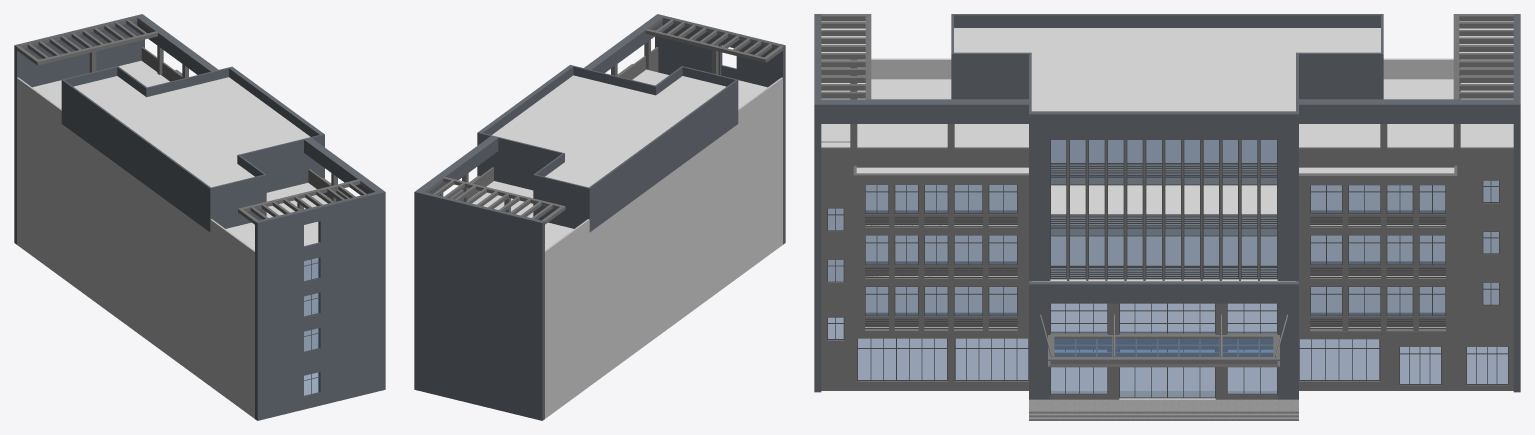
File: 文博的房子.fbx
The picture shows the model from 3 angles, left to right: view 1: azimuth 30°, elevation 25°; view 2: azimuth 150°, elevation 25°; view 3: azimuth 270°, elevation 25°; orthographic projection. The views are drawn at different scales.
Parts seen in each view (by area): view 1: qingmo_c9b3fc26-5e68-48c2-ac20-e401704c7c1e, qingmo_1f484670-5d4b-4316-b420-3c499457a332, qingmo_e1d23210-2f6b-4bca-b11b-85ee1d625181, qingmo_2dcc3714-dce4-49e8-9ec8-e3cf7dcd116f, qingmo_7e99aeb9-248d-4c8e-917b-07705b71b778, qingmo_bace78cb-dbb5-4347-8816-d381edb11381; view 2: qingmo_c9b3fc26-5e68-48c2-ac20-e401704c7c1e, qingmo_1f484670-5d4b-4316-b420-3c499457a332, qingmo_e1d23210-2f6b-4bca-b11b-85ee1d625181, qingmo_2dcc3714-dce4-49e8-9ec8-e3cf7dcd116f; view 3: qingmo_e1d23210-2f6b-4bca-b11b-85ee1d625181, qingmo_7e99aeb9-248d-4c8e-917b-07705b71b778, qingmo_c9b3fc26-5e68-48c2-ac20-e401704c7c1e, qingmo_2dcc3714-dce4-49e8-9ec8-e3cf7dcd116f, qingmo_bace78cb-dbb5-4347-8816-d381edb11381, qingmo_d5ccf006-2d7e-4347-a547-9c8735e947f7, qingmo_727bd056-4a2f-49a8-a936-83b595676e6e, qingmo_1f484670-5d4b-4316-b420-3c499457a332, qingmo_b0a529ee-aed3-4972-8107-7307b732b748, qingmo_5f089473-ef83-4f09-b16d-089fc07a28ee, qingmo_e203a2f0-0366-4253-88d0-f13925a05739, qingmo_b6d97a86-d891-4337-9d40-37cc194bd71a (+3 smaller).
Boxes of the visible parts, box(x1,y1,x2,y2) form: qingmo_c9b3fc26-5e68-48c2-ac20-e401704c7c1e: box(14, 14, 385, 420); qingmo_1f484670-5d4b-4316-b420-3c499457a332: box(17, 77, 254, 418); qingmo_e1d23210-2f6b-4bca-b11b-85ee1d625181: box(32, 60, 330, 351); qingmo_2dcc3714-dce4-49e8-9ec8-e3cf7dcd116f: box(17, 17, 374, 224); qingmo_7e99aeb9-248d-4c8e-917b-07705b71b778: box(304, 257, 319, 395); qingmo_bace78cb-dbb5-4347-8816-d381edb11381: box(304, 257, 320, 396); qingmo_c9b3fc26-5e68-48c2-ac20-e401704c7c1e: box(414, 14, 785, 420); qingmo_1f484670-5d4b-4316-b420-3c499457a332: box(545, 77, 782, 418); qingmo_e1d23210-2f6b-4bca-b11b-85ee1d625181: box(469, 69, 767, 249); qingmo_2dcc3714-dce4-49e8-9ec8-e3cf7dcd116f: box(425, 17, 782, 224); qingmo_e1d23210-2f6b-4bca-b11b-85ee1d625181: box(821, 28, 1513, 327); qingmo_7e99aeb9-248d-4c8e-917b-07705b71b778: box(828, 140, 1507, 397); qingmo_c9b3fc26-5e68-48c2-ac20-e401704c7c1e: box(814, 14, 1520, 399); qingmo_2dcc3714-dce4-49e8-9ec8-e3cf7dcd116f: box(821, 14, 1513, 390); qingmo_bace78cb-dbb5-4347-8816-d381edb11381: box(827, 140, 1508, 398); qingmo_d5ccf006-2d7e-4347-a547-9c8735e947f7: box(853, 140, 1457, 399); qingmo_727bd056-4a2f-49a8-a936-83b595676e6e: box(865, 210, 1445, 326); qingmo_1f484670-5d4b-4316-b420-3c499457a332: box(821, 58, 1513, 227); qingmo_b0a529ee-aed3-4972-8107-7307b732b748: box(1039, 314, 1288, 367); qingmo_5f089473-ef83-4f09-b16d-089fc07a28ee: box(1029, 399, 1298, 413); qingmo_e203a2f0-0366-4253-88d0-f13925a05739: box(1051, 176, 1276, 184); qingmo_b6d97a86-d891-4337-9d40-37cc194bd71a: box(1051, 227, 1276, 235).
Size of what is drawn, in the model's own units: 547370 by 570230 by 1270000.
Materials: 10 (1 with a texture image).
